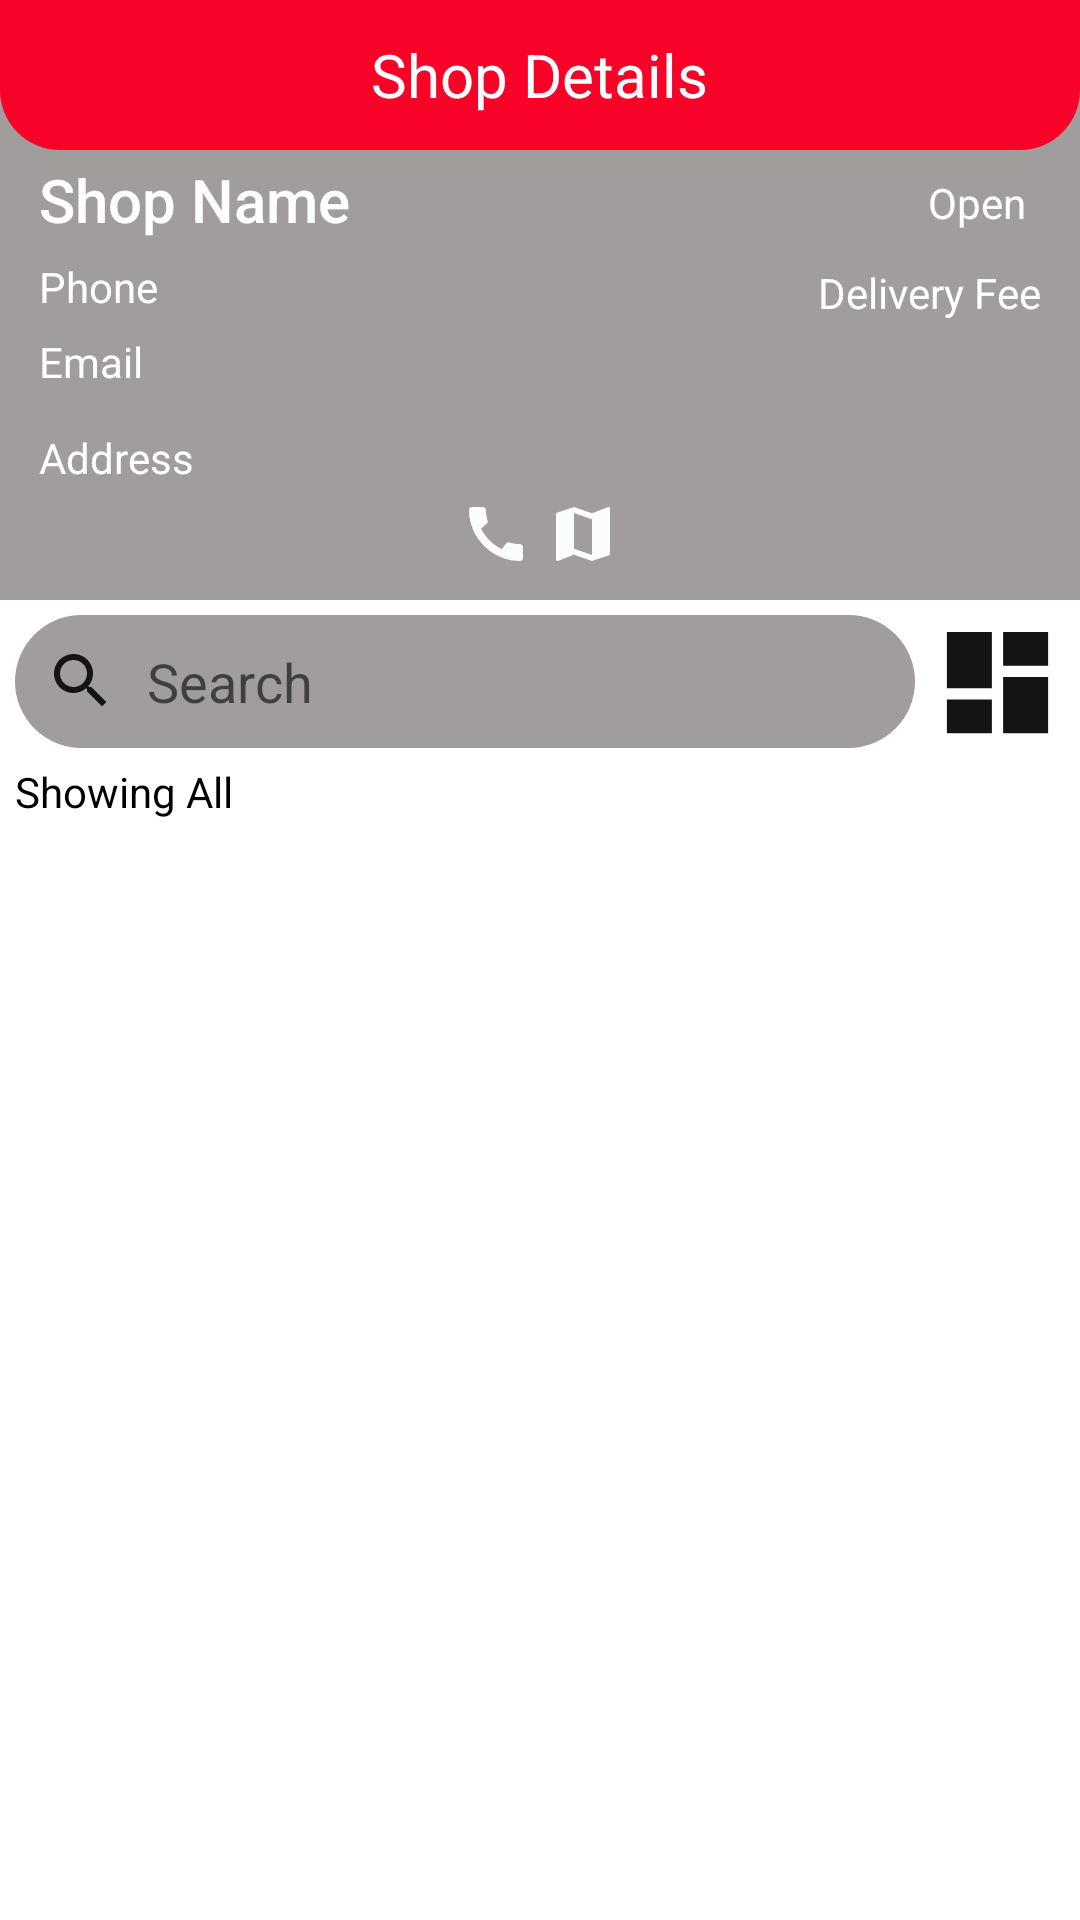

Named icons in this screenshot (1080x1920) and their centers, (x=x, y=y):
call: (x=496, y=534)
map: (x=583, y=534)
